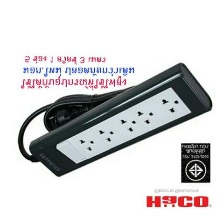three_eye_plug: (25, 61, 212, 178)
